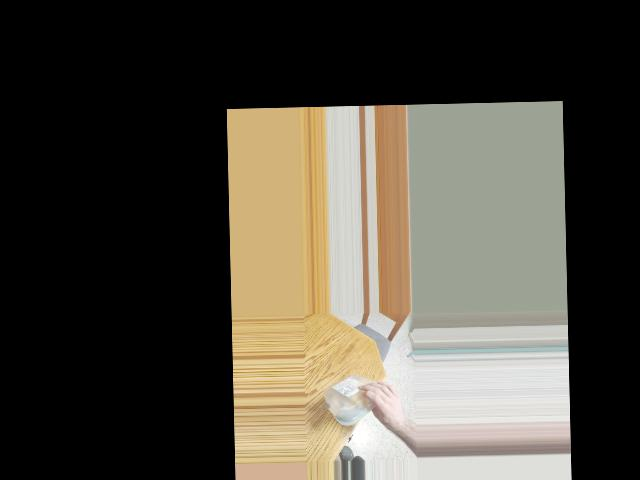cheese: (321, 370, 388, 424)
